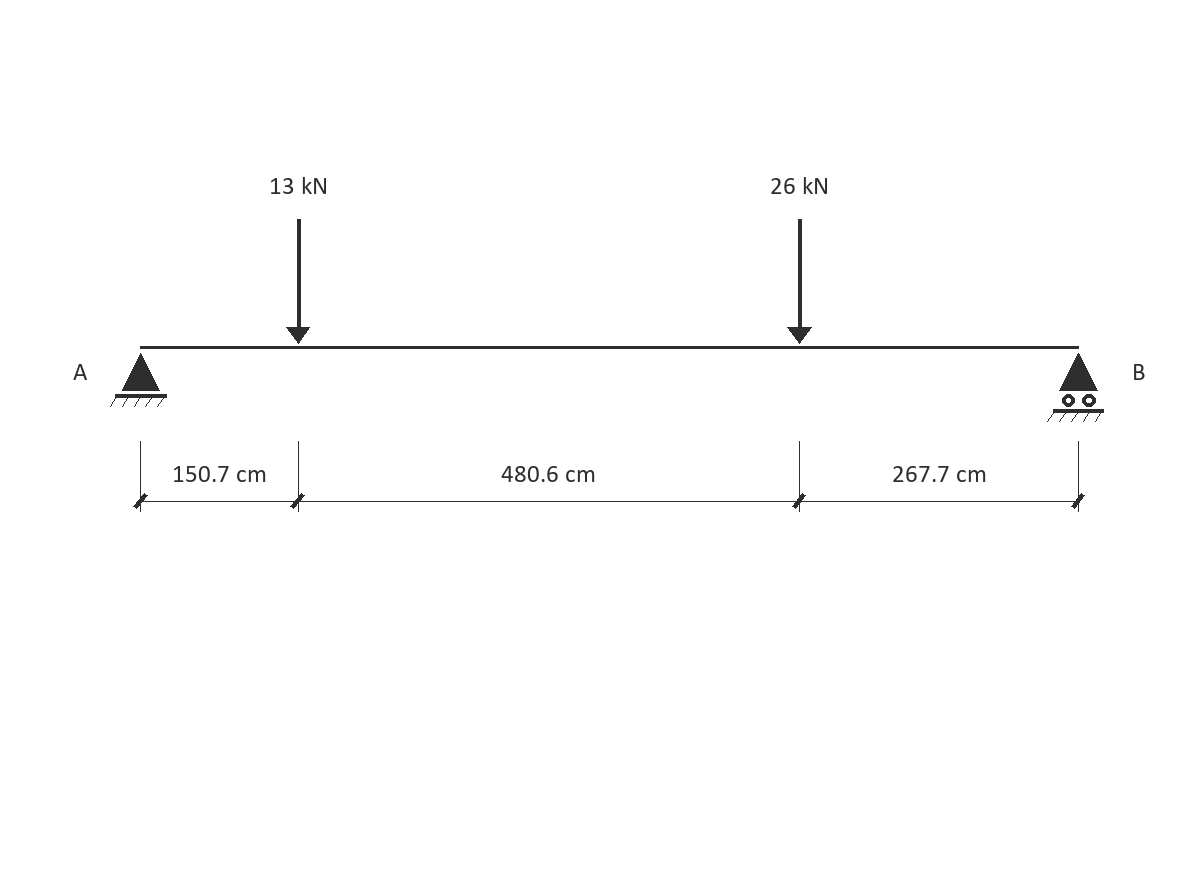pin_support: (110, 353, 167, 407)
point_load: (787, 219, 812, 344), (286, 219, 310, 344)
roller_support: (1047, 353, 1104, 422)
